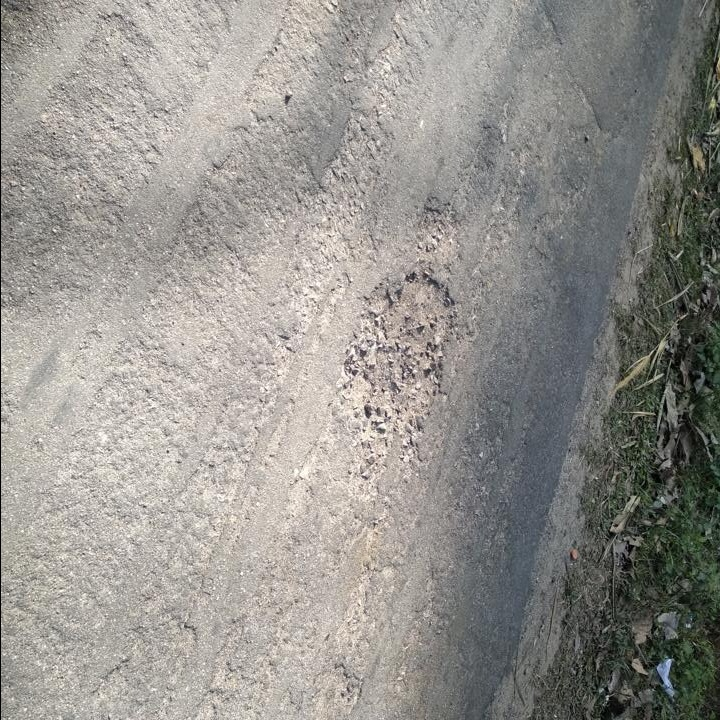pothole: (331, 267, 463, 469)
